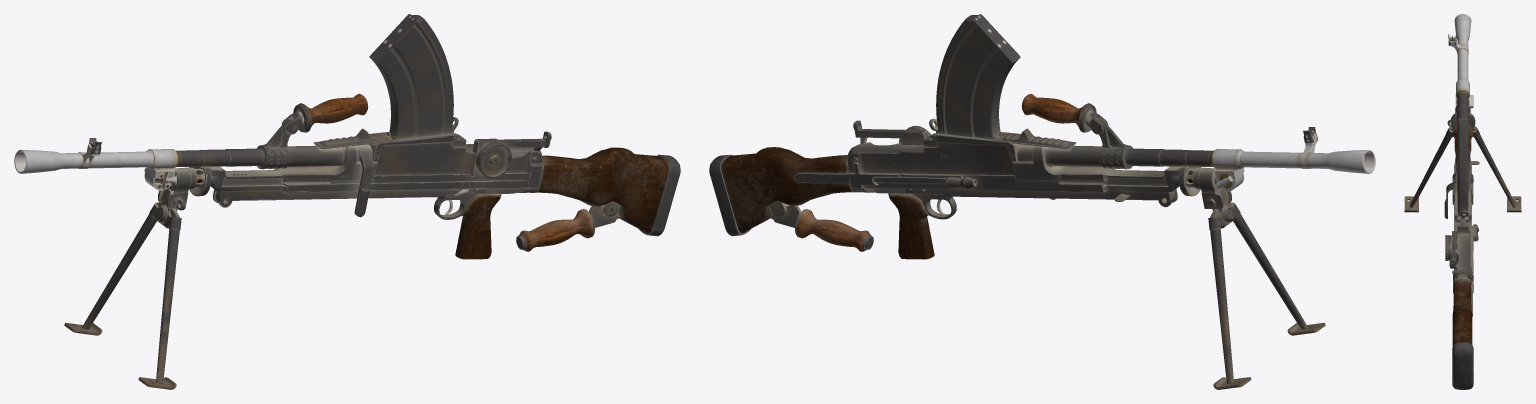
3 renders of one model, left to right at view 1: azimuth 30°, elevation 25°; view 2: azimuth 150°, elevation 25°; view 3: azimuth 270°, elevation 25°, orthographic. The views are drawn at different scales.
Parts seen in each view (by area): view 1: Tilted_14 - Default_0; view 2: Tilted_14 - Default_0; view 3: Tilted_14 - Default_0.
Boxes of the visible parts, box(x1,y1,x2,y2) form: Tilted_14 - Default_0: box(14, 14, 680, 389); Tilted_14 - Default_0: box(709, 14, 1375, 389); Tilted_14 - Default_0: box(1404, 14, 1521, 389).
Size of the model in its own units: 1.5 by 0.6017 by 0.3354.
Materials: 1 (1 with a texture image).
